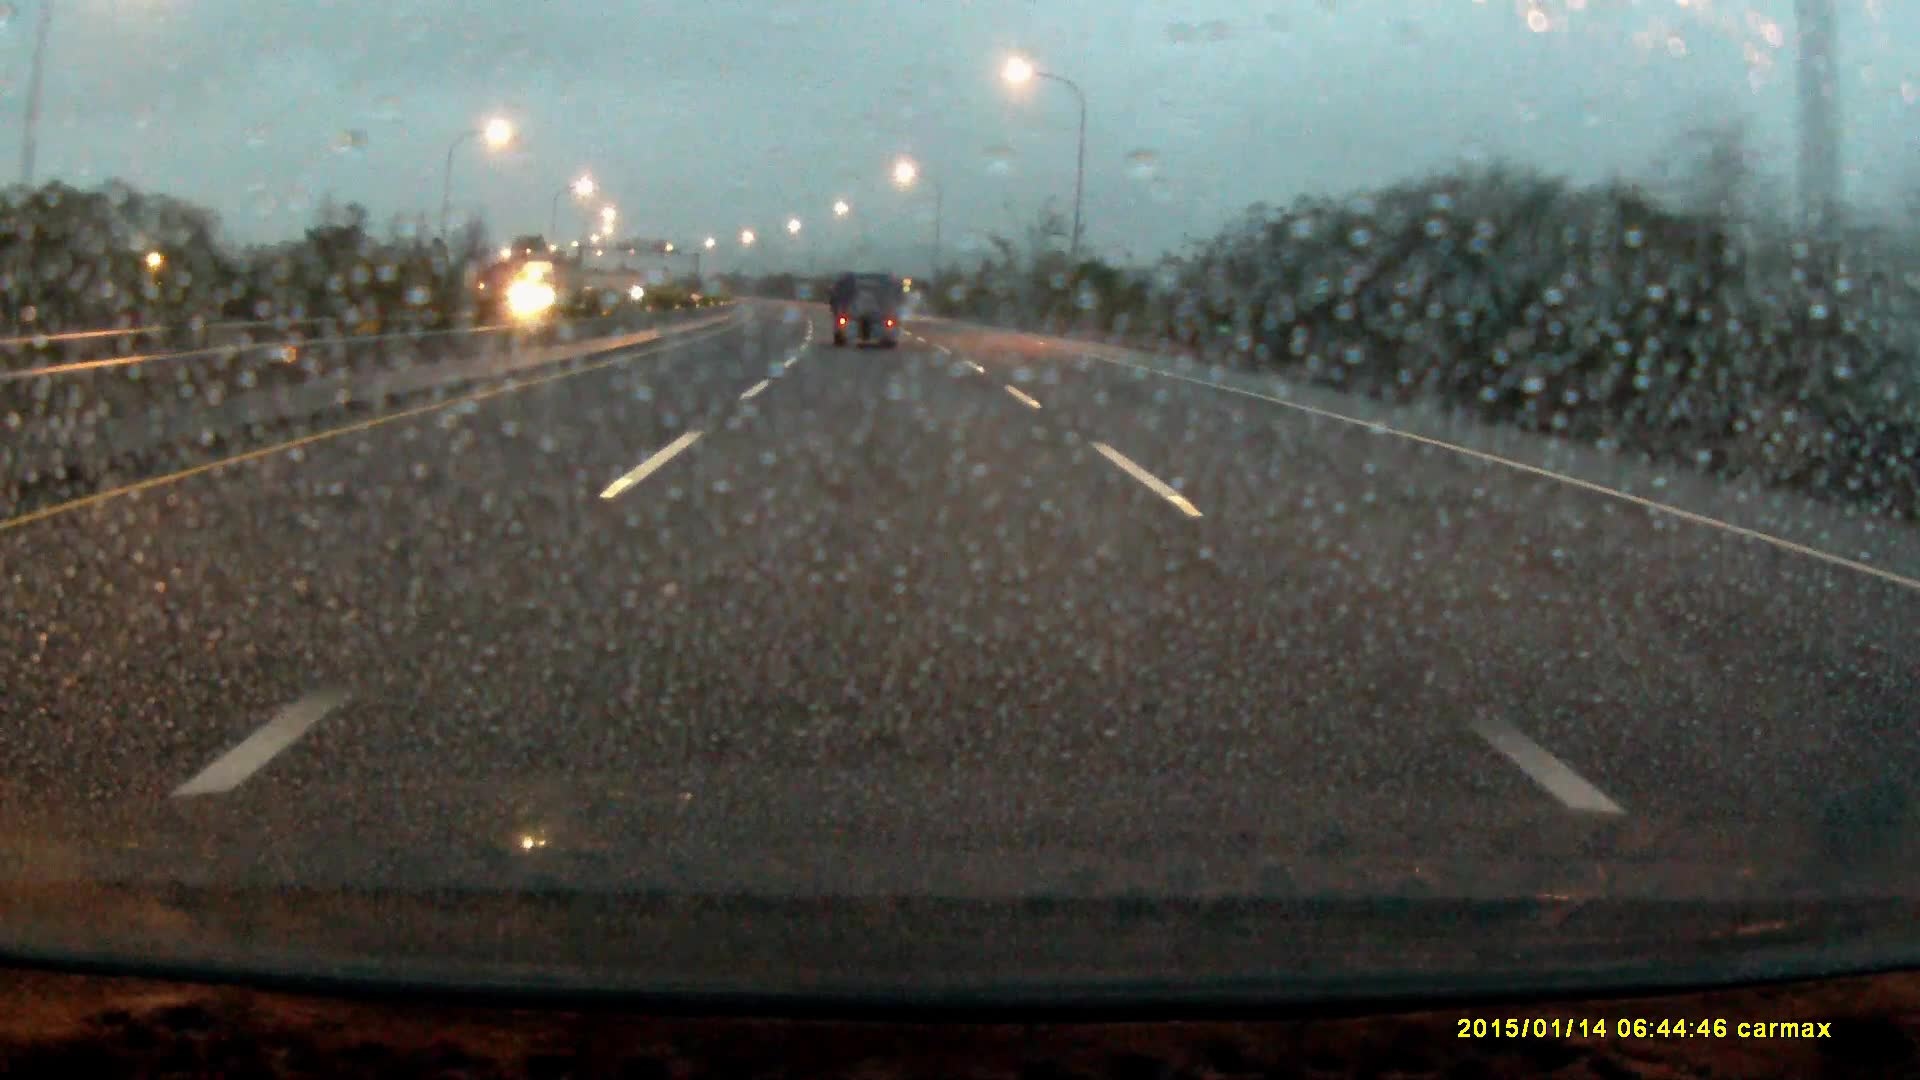vehicle: (512, 257, 596, 326), (833, 272, 903, 351)
